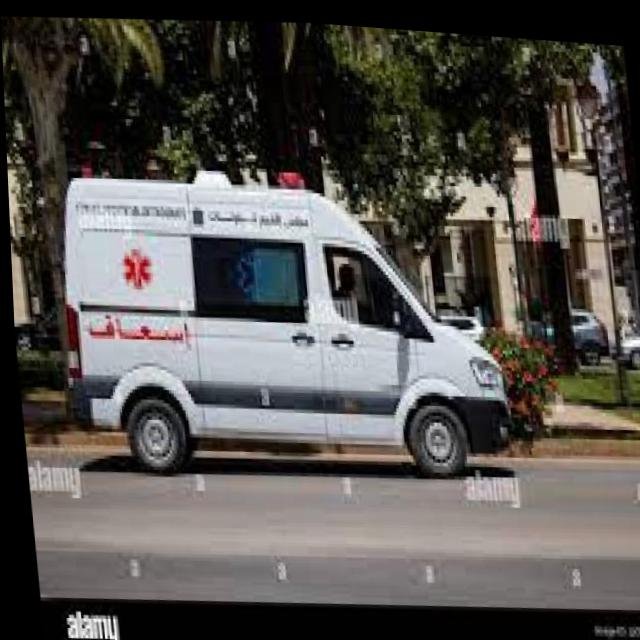ambulance: (42, 129, 517, 520)
